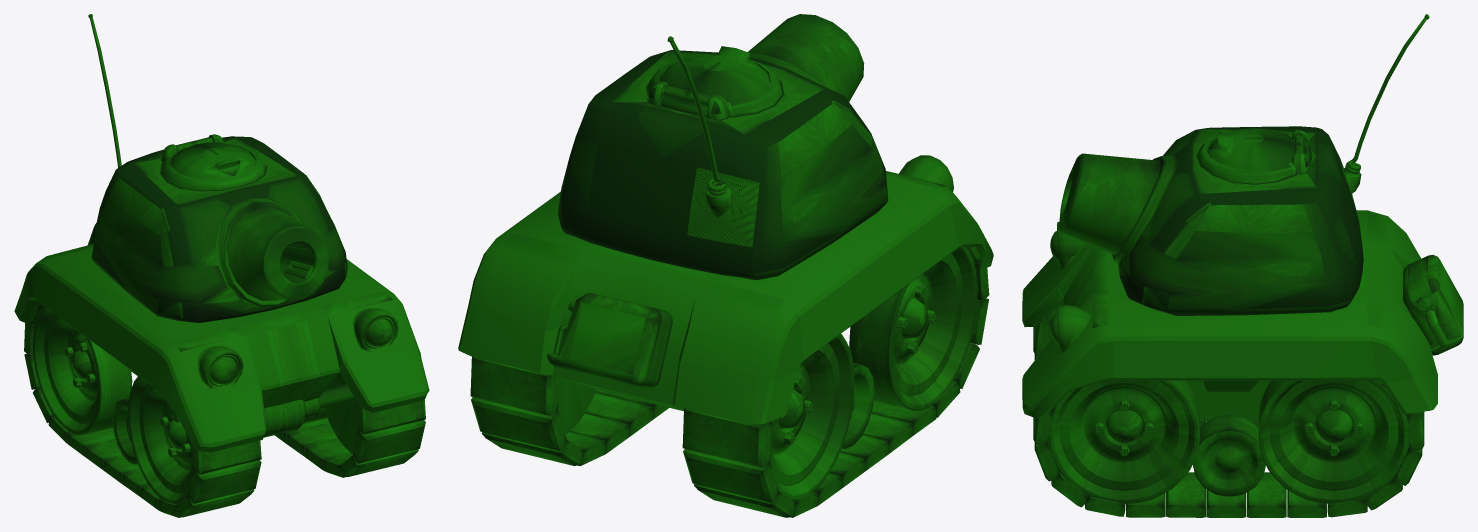
The model's file is tank.FBX.
The picture shows the model from 3 angles, left to right: view 1: azimuth 30°, elevation 25°; view 2: azimuth 150°, elevation 25°; view 3: azimuth 270°, elevation 25°; orthographic projection. The views are drawn at different scales.
Parts seen in each view (by area): view 1: TankChassis, TankTurret, TankTracksRight, TankTracksLeft; view 2: TankChassis, TankTurret, TankTracksRight, TankTracksLeft; view 3: TankChassis, TankTurret, TankTracksLeft, TankTracksRight.
Boxes of the visible parts, left/top/right/bottom form: TankChassis: left=14, top=223, right=429, bottom=464; TankTurret: left=88, top=14, right=347, bottom=322; TankTracksRight: left=24, top=301, right=261, bottom=517; TankTracksLeft: left=274, top=372, right=425, bottom=477; TankChassis: left=458, top=155, right=993, bottom=448; TankTurret: left=558, top=14, right=888, bottom=280; TankTracksRight: left=682, top=246, right=989, bottom=517; TankTracksLeft: left=470, top=356, right=668, bottom=466; TankChassis: left=1022, top=210, right=1463, bottom=496; TankTurret: left=1059, top=14, right=1429, bottom=315; TankTracksLeft: left=1033, top=380, right=1424, bottom=517; TankTracksRight: left=1033, top=302, right=1258, bottom=428.
Bounding box in the file's own units: 3.4 × 4.97 × 4.73.
4 materials, 4 textured.
